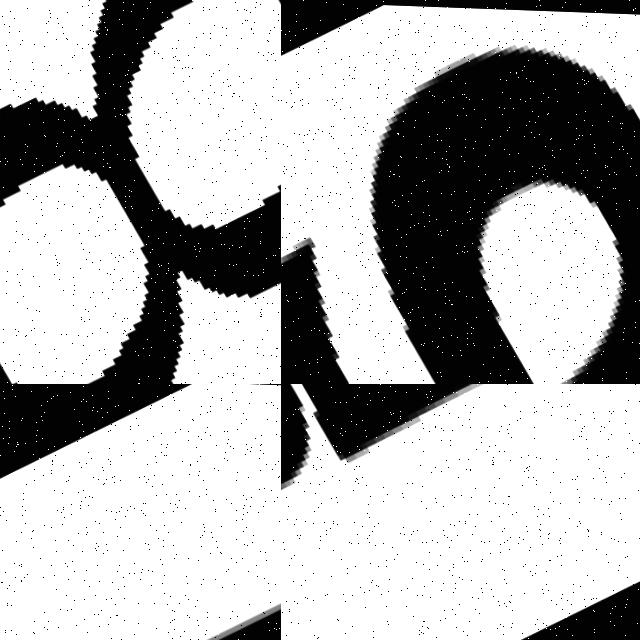8: (0, 0, 281, 384)
A: (281, 0, 640, 384)
I: (281, 384, 640, 553)
L: (4, 486, 281, 640)
